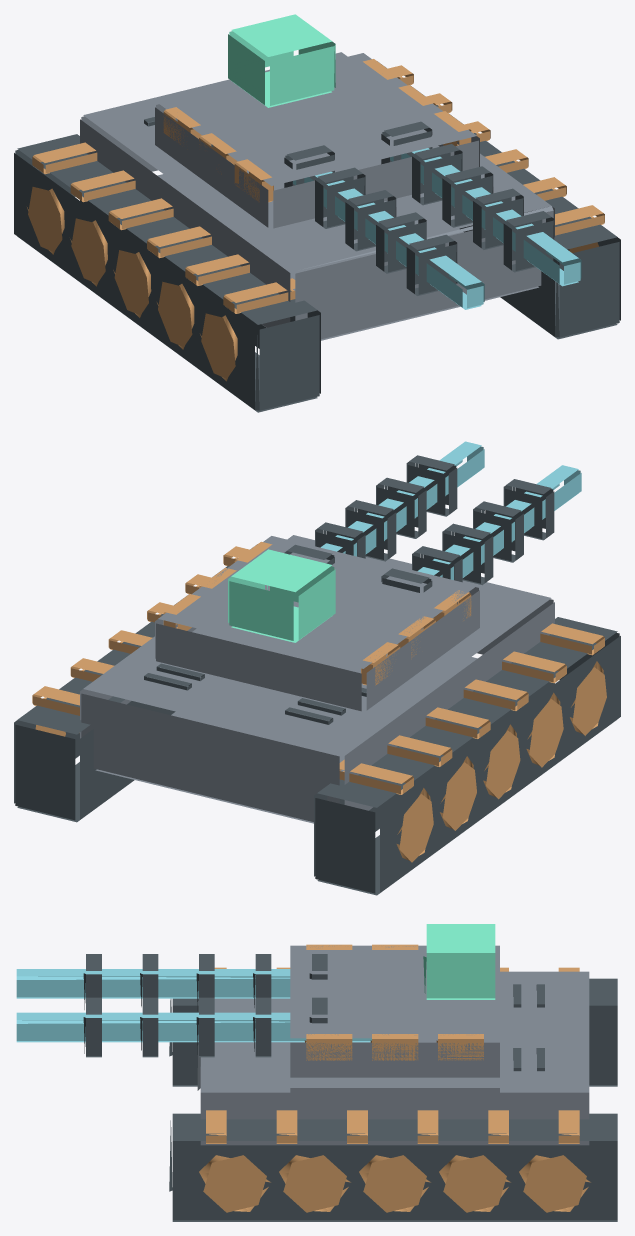
File: boss-rail.glb
The picture shows the model from 3 angles, top to bottom: view 1: azimuth 30°, elevation 25°; view 2: azimuth 150°, elevation 25°; view 3: azimuth 270°, elevation 25°; orthographic projection. The views are drawn at different scales.
Visible parts, largest first — view 1: Chassis, TurretArmor, Track, Track.001, Core, Rail.001, Rail, Coil.004, Coil.009, Coil.002, Coil.007, Detail armored wheel.004 (+21 smaller); view 2: Chassis, TurretArmor, Track, Track.001, Core, Rail.001, Rail, Coil.009, Coil.004, Coil.007, Coil.002, Coil.008 (+19 smaller); view 3: Chassis, Track.001, TurretArmor, Rail.001, Rail, Core, Track, Detail armored wheel.005, Detail armored wheel.006, Detail armored wheel.009, Detail armored wheel.007, Detail armored wheel.008 (+17 smaller).
Boxes of the visible parts, box(x1,y1,x2,y2) form: Chassis: box(80, 52, 554, 340); TurretArmor: box(155, 53, 479, 228); Track: box(14, 134, 320, 412); Track.001: box(377, 61, 620, 339); Core: box(228, 14, 335, 107); Rail.001: box(390, 148, 581, 286); Rail: box(293, 171, 484, 309); Coil.004: box(406, 234, 457, 295); Coil.009: box(503, 211, 554, 272); Coil.002: box(345, 190, 396, 251); Coil.007: box(442, 166, 493, 227); Detail armored wheel.004: box(27, 187, 64, 254); Chassis: box(80, 535, 554, 823); TurretArmor: box(155, 536, 479, 711); Track: box(314, 617, 620, 895); Track.001: box(14, 544, 257, 822); Core: box(228, 549, 335, 642); Rail.001: box(320, 441, 484, 556); Rail: box(417, 465, 581, 579); Coil.009: box(406, 455, 457, 516); Coil.004: box(503, 479, 554, 540); Coil.007: box(345, 500, 396, 561); Coil.002: box(442, 523, 493, 585); Coil.008: box(376, 477, 426, 538); Chassis: box(197, 971, 589, 1145); Track.001: box(169, 1113, 617, 1221); TurretArmor: box(290, 945, 499, 1092); Rail.001: box(16, 1012, 371, 1042); Rail: box(16, 969, 290, 998); Core: box(423, 924, 495, 999); Track: box(169, 978, 617, 1086); Detail armored wheel.005: box(199, 1155, 270, 1212); Detail armored wheel.006: box(279, 1155, 350, 1212); Detail armored wheel.009: box(519, 1155, 590, 1212); Detail armored wheel.007: box(359, 1155, 430, 1212); Detail armored wheel.008: box(439, 1155, 510, 1212).
Size of the model in its own units: 4.21 by 2.37 by 6.45.
